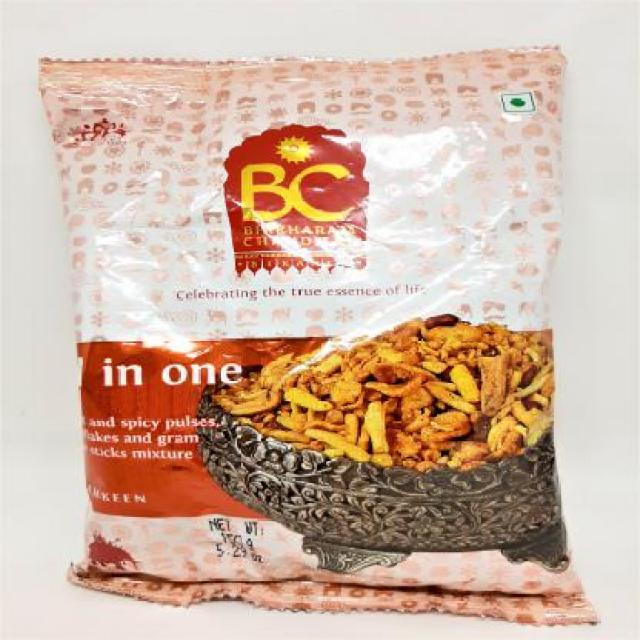Salatini: (32, 54, 606, 636)
